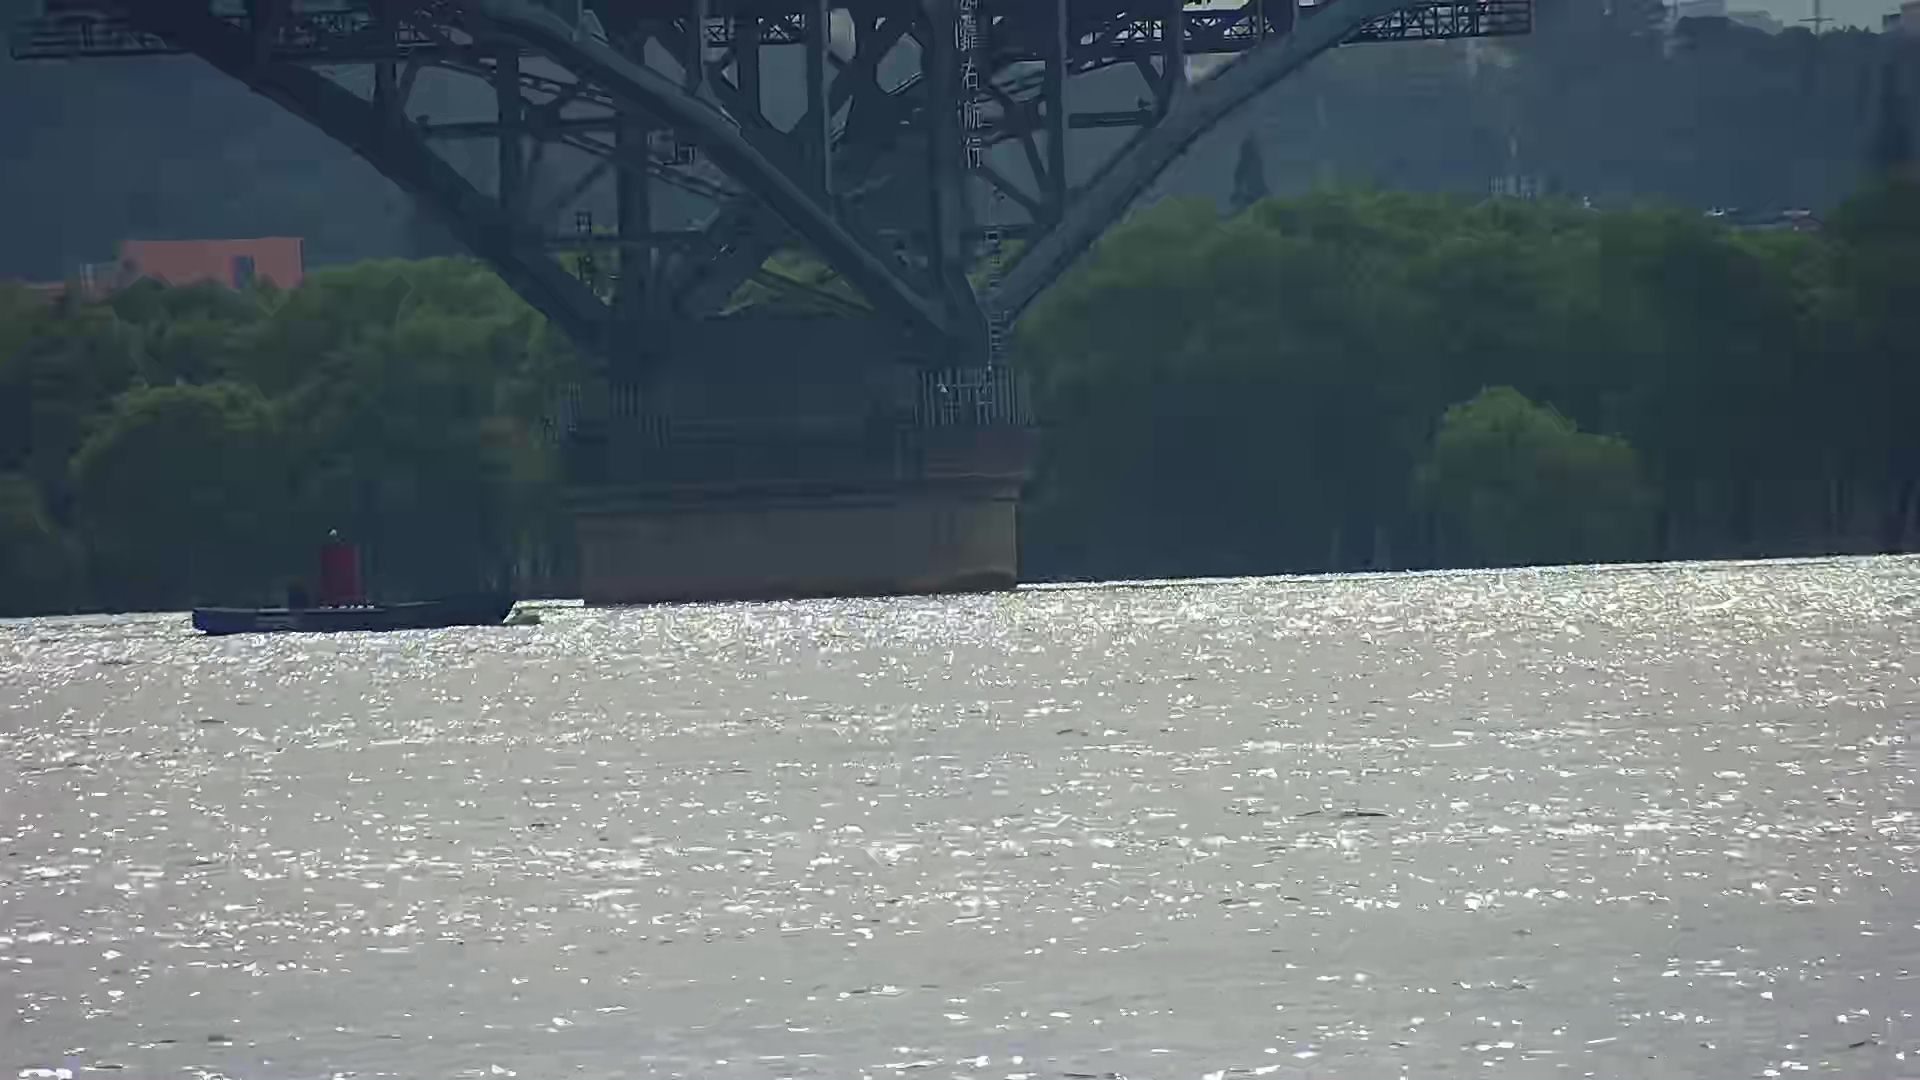boat: (193, 531, 521, 636)
bridge: (3, 3, 1534, 608)
